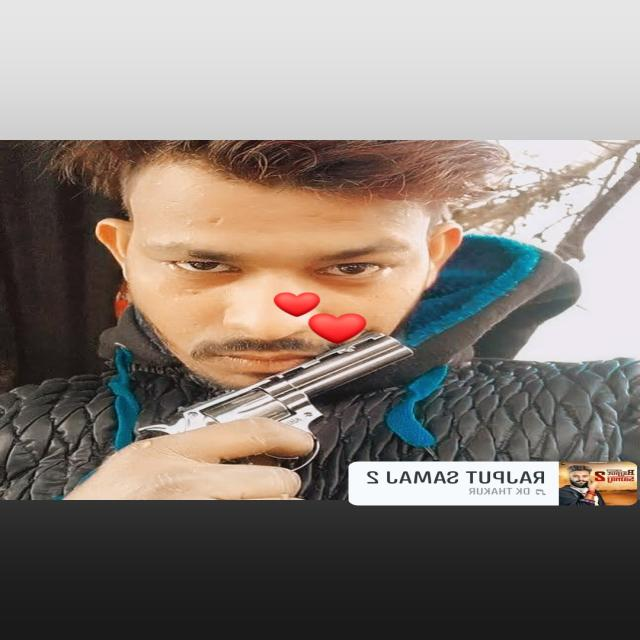gun: (80, 313, 447, 502)
